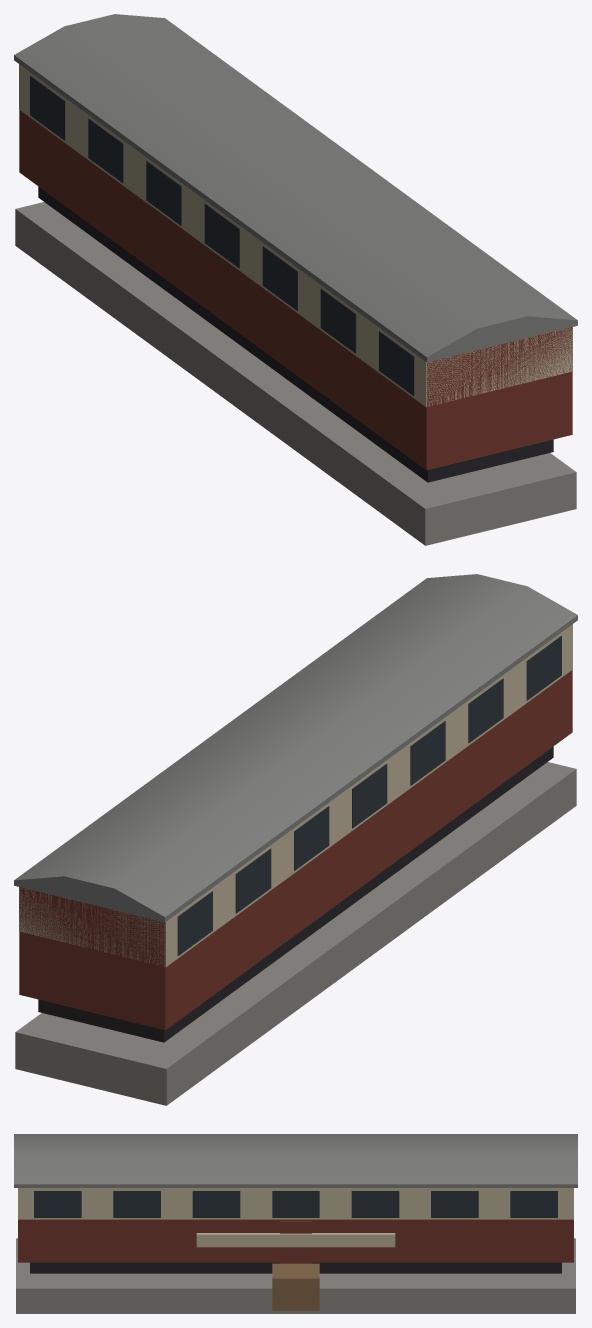
The model's file is SM_Prop_cafe_building_5_LOD2.glb.
3 views of the same model, one above another, from view 1: azimuth 30°, elevation 25°; view 2: azimuth 150°, elevation 25°; view 3: azimuth 270°, elevation 25° (orthographic). The views are drawn at different scales.
Visible parts, largest first — view 1: SM_Prop_cafe_building_5_LOD2; view 2: SM_Prop_cafe_building_5_LOD2; view 3: SM_Prop_cafe_building_5_LOD2.
Boxes of the visible parts, left/top/right/bottom form: SM_Prop_cafe_building_5_LOD2: left=14, top=14, right=577, bottom=545; SM_Prop_cafe_building_5_LOD2: left=14, top=574, right=577, bottom=1105; SM_Prop_cafe_building_5_LOD2: left=14, top=1134, right=577, bottom=1313.
Bounding box in the file's own units: 3.9 × 3.91 × 14.2.
